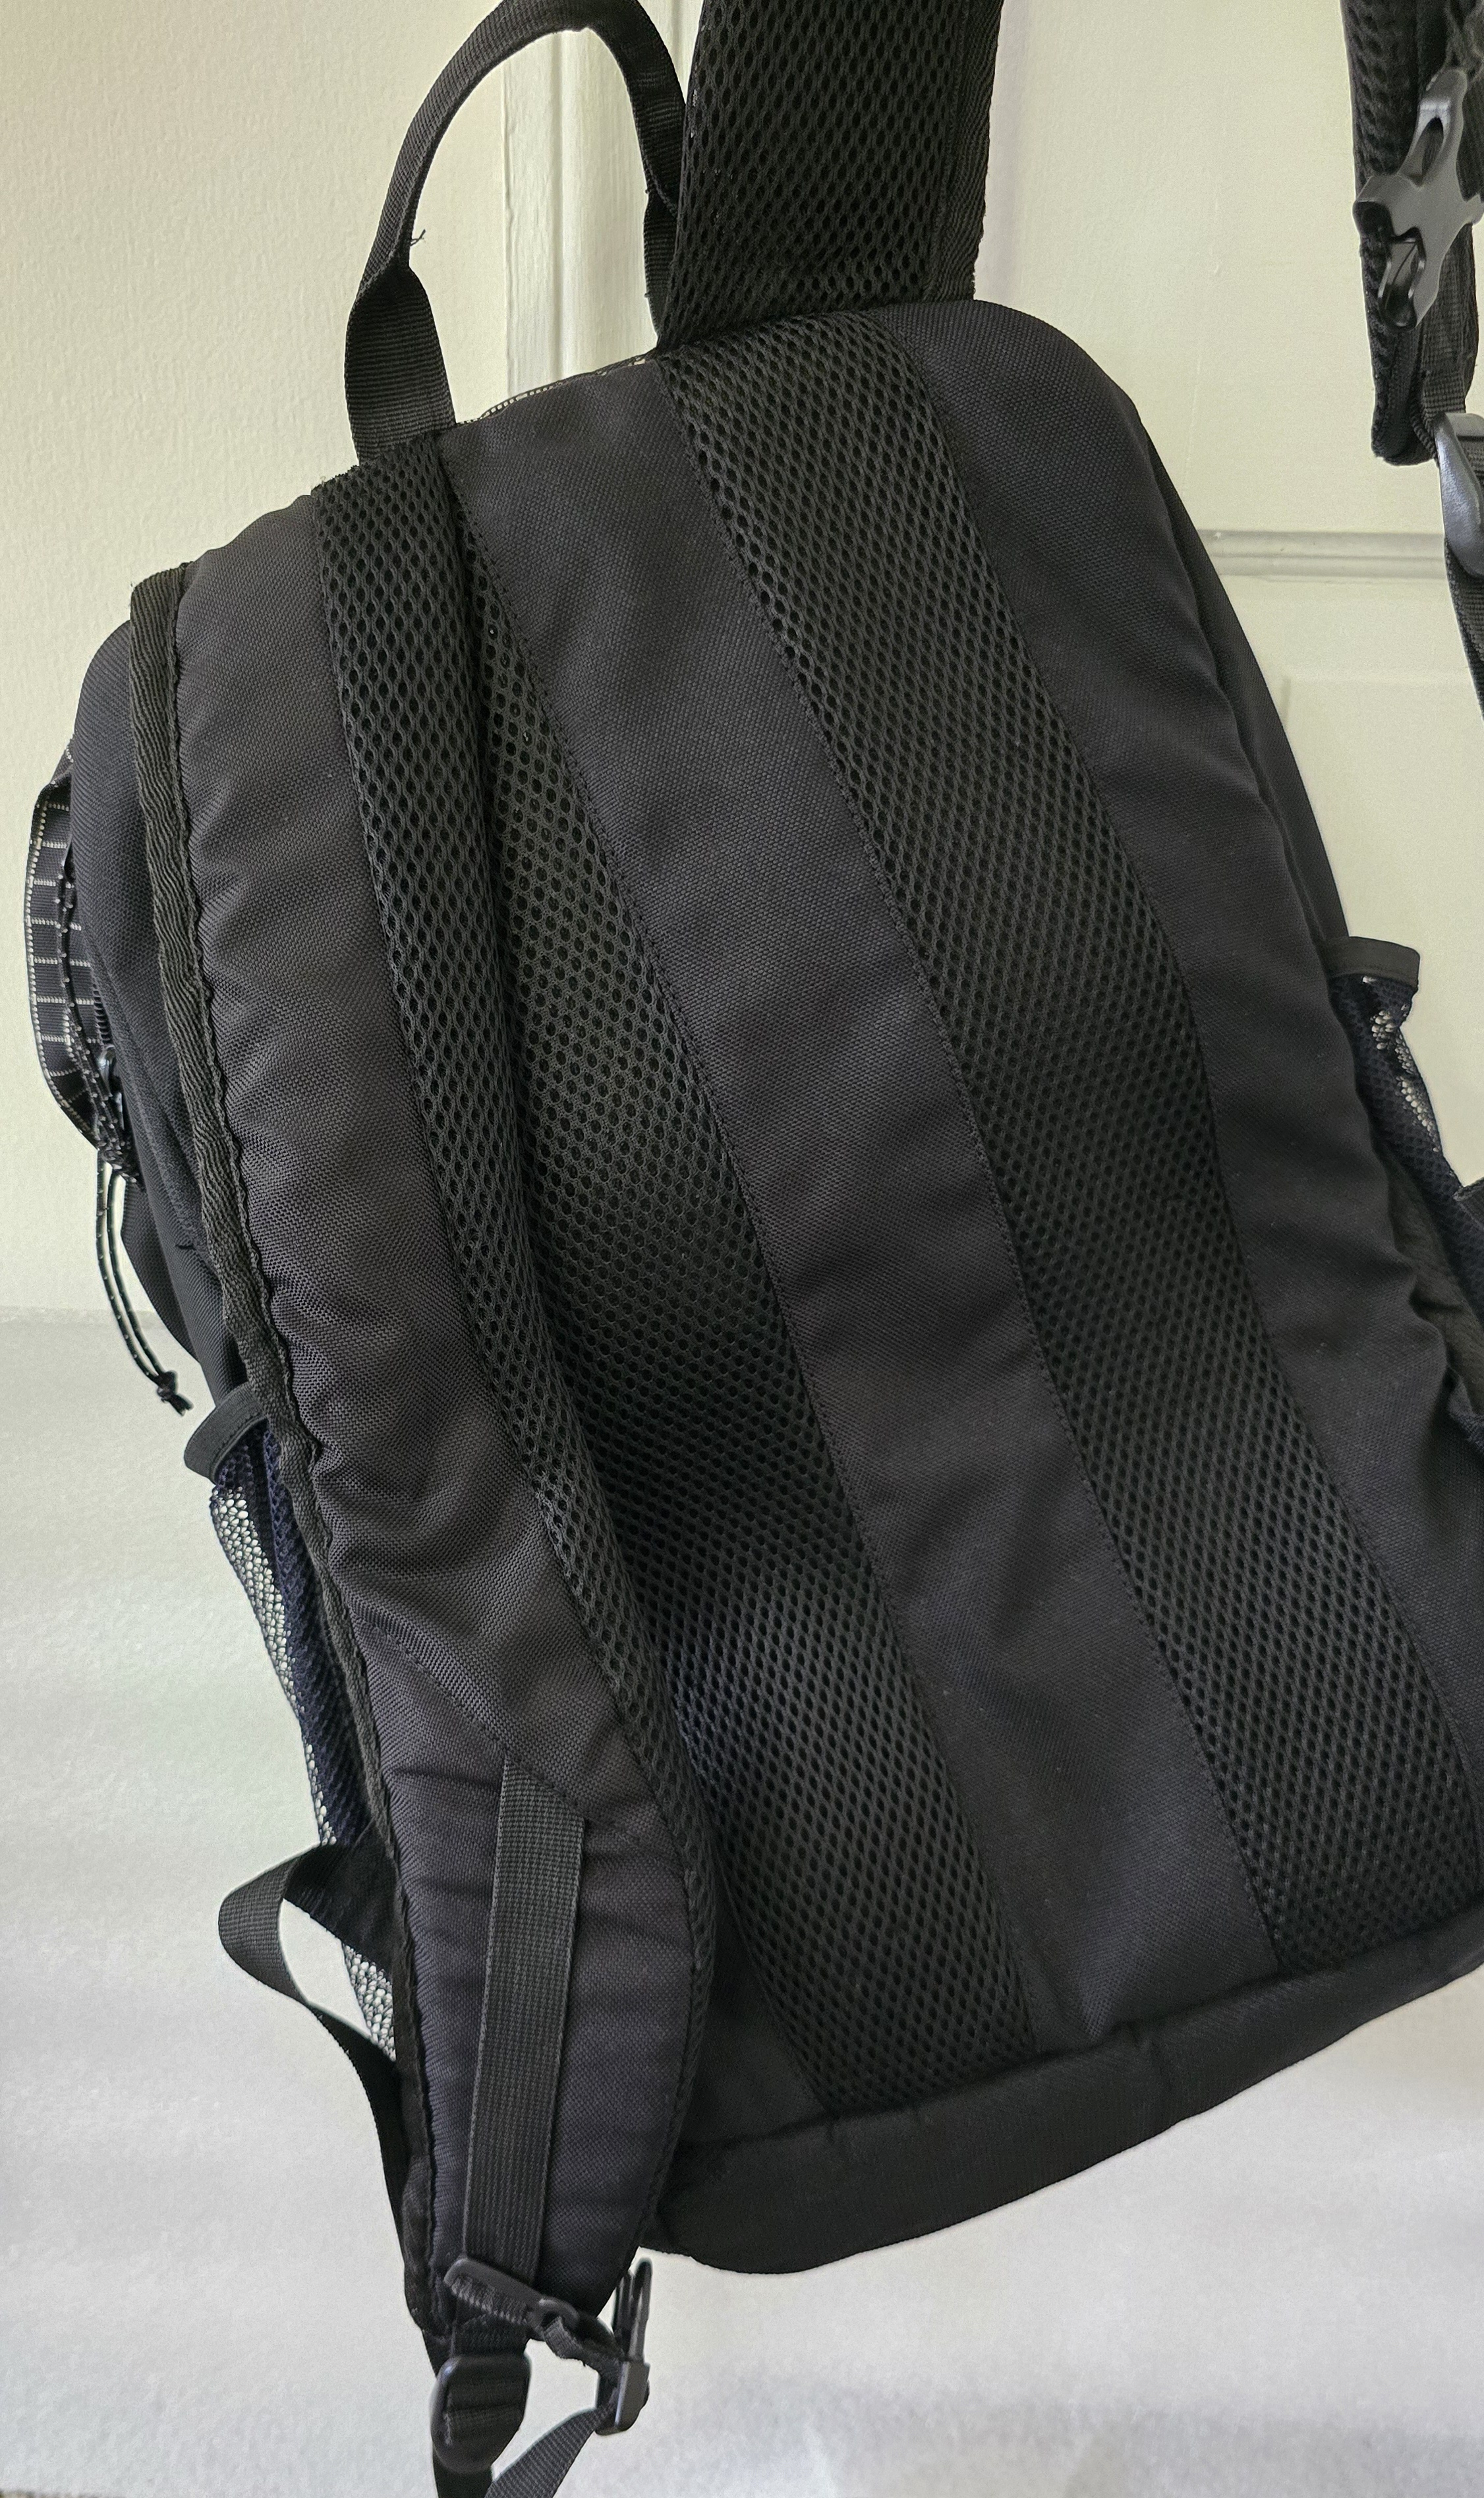bag: (48, 0, 1461, 2305)
